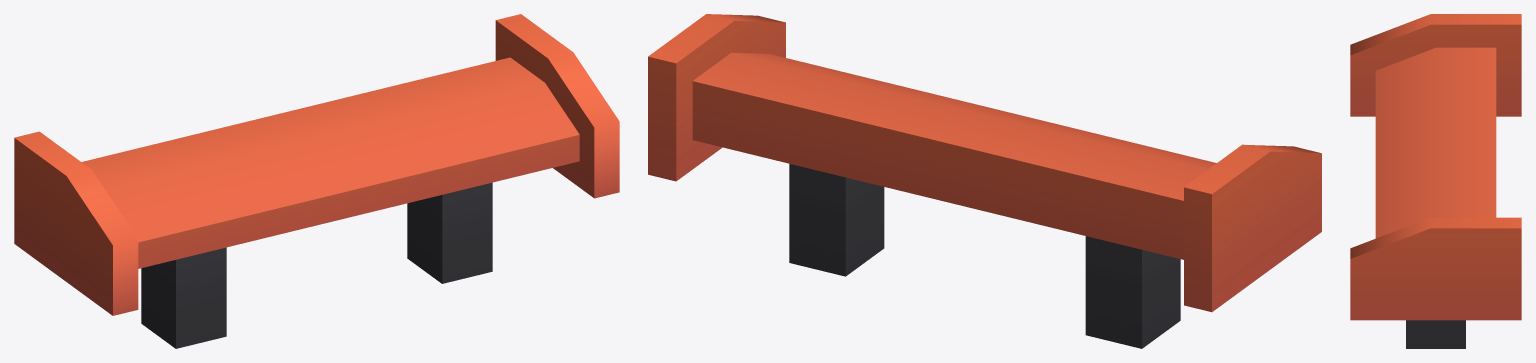
The model's file is kenney-car-debris-spoiler-b.glb.
The picture shows the model from 3 angles, left to right: view 1: azimuth 30°, elevation 25°; view 2: azimuth 150°, elevation 25°; view 3: azimuth 270°, elevation 25°; orthographic projection. The views are drawn at different scales.
Visible parts, largest first — view 1: debris-spoiler-b; view 2: debris-spoiler-b; view 3: debris-spoiler-b.
Part boxes in pixels (x1,y1,x2,y2): debris-spoiler-b: [14, 14, 619, 348]; debris-spoiler-b: [648, 14, 1321, 348]; debris-spoiler-b: [1350, 14, 1521, 348].
Bounding box in the file's own units: 1 × 0.35 × 0.3373.
1 material, 1 textured.
